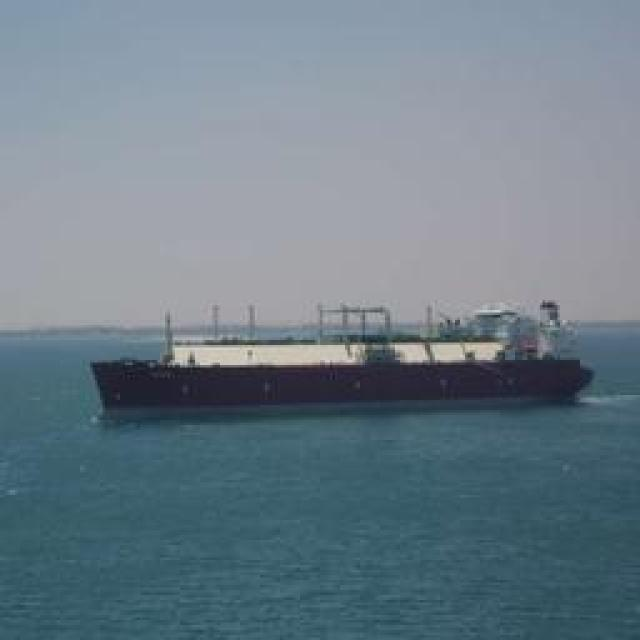CIV_Ship: (87, 328, 575, 414)
